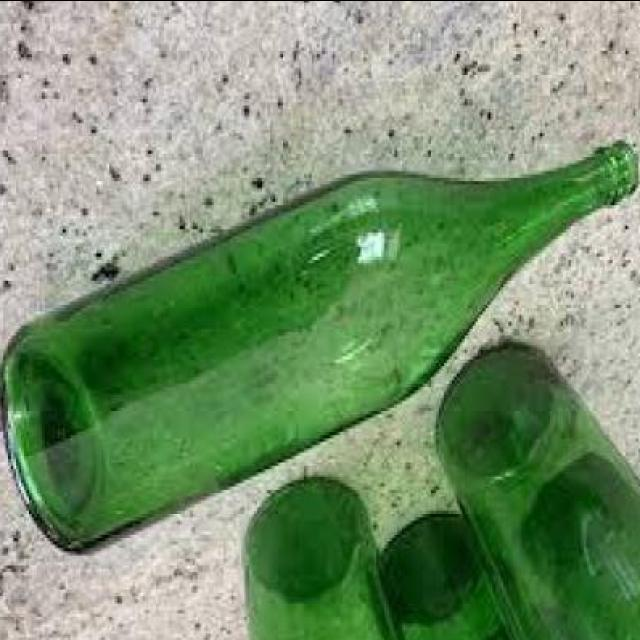kaca: (3, 136, 640, 548), (436, 337, 640, 640), (241, 474, 410, 640), (378, 509, 539, 640)
